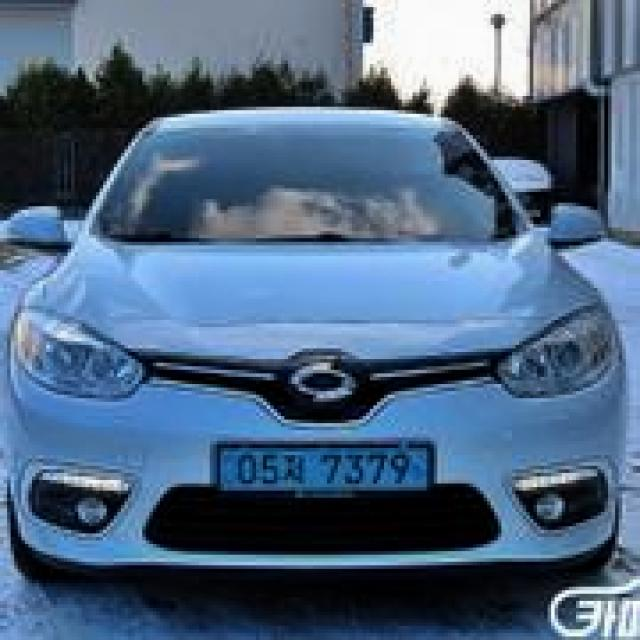EV_plate: (215, 441, 438, 507)
car: (0, 103, 636, 581)
